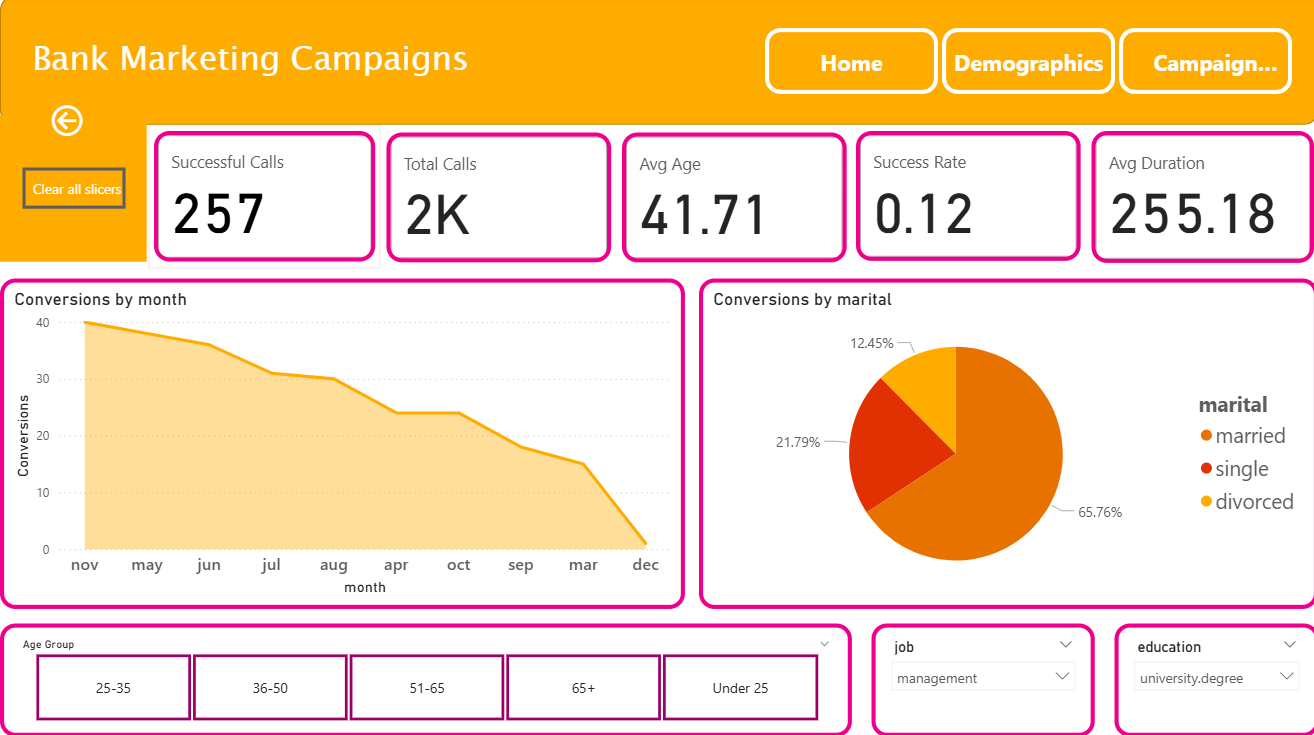

Layout of this report page (visuals, bound fields, positions):
{"tool":"powerbi","page":{"name":"Executive summary","canvas":[1280,720],"ordinal":0},"visuals":[{"type":"shape","box":[0,0,1280,126],"z":0},{"type":"cardVisual","fields":{"Data":["bank-additional-full.Avg Age"]},"box":[598,128,228,136],"z":1000},{"type":"cardVisual","fields":{"Data":["bank-additional-full.Total Calls"]},"box":[370,128,228,136],"z":2000},{"type":"cardVisual","fields":{"Data":["bank-additional-full.Successful Calls"]},"box":[144.4,126.7,225.6,137.8],"z":3000},{"type":"cardVisual","fields":{"Data":["bank-additional-full.Success Rate"]},"box":[826,126,228,136],"z":4000},{"type":"cardVisual","fields":{"Data":["bank-additional-full.Avg Duration"]},"box":[1054,126,226,138],"z":5000},{"type":"textbox","box":[26,32,472,78],"z":6000},{"type":"actionButton","title":"Go to Demographics","box":[742,32,168,64],"z":7000},{"type":"actionButton","title":"Go to Demographics","box":[914,32,168,64],"z":8000},{"type":"actionButton","title":"Go to Demographics","box":[1086,32,168,64],"z":9000},{"type":"shape","box":[0,115.7,142.3,142.3],"z":10000},{"type":"lineChart","fields":{"Category":["bank-additional-full.month"],"Y":["bank-additional-full.Conversions"]},"box":[0,275.3,664.8,320.7],"z":11000},{"type":"actionButton","box":[21.4,167.1,100,40],"z":12000},{"type":"pieChart","fields":{"Category":["bank-additional-full.marital"],"Y":["bank-additional-full.Conversions"]},"box":[678.8,275.3,600.6,320.7],"z":13000},{"type":"slicer","fields":{"Values":["bank-additional-full.Age Group"]},"box":[0,610,826.7,110],"z":14000},{"type":"slicer","fields":{"Values":["bank-additional-full.job"]},"box":[845.8,610,216.7,110],"z":15000},{"type":"slicer","fields":{"Values":["bank-additional-full.education"]},"box":[1081.7,610,198.3,110],"z":16000},{"type":"actionButton","box":[45.7,101.4,51.4,40],"z":17000}]}

Visuals, with their boxes in screenshot pixels (x1, y1, x2, y2), scaled from the page's 1280x720 canvas onto the 1314x735 screenshot:
shape: region(0, 0, 1313, 129)
cardVisual - bank-additional-full.Avg Age: region(614, 131, 848, 270)
cardVisual - bank-additional-full.Total Calls: region(380, 131, 614, 270)
cardVisual - bank-additional-full.Successful Calls: region(148, 129, 380, 270)
cardVisual - bank-additional-full.Success Rate: region(848, 129, 1082, 267)
cardVisual - bank-additional-full.Avg Duration: region(1082, 129, 1313, 270)
textbox: region(27, 33, 511, 112)
"Go to Demographics" actionButton: region(762, 33, 934, 98)
"Go to Demographics" actionButton: region(938, 33, 1111, 98)
"Go to Demographics" actionButton: region(1115, 33, 1287, 98)
shape: region(0, 118, 146, 263)
lineChart - bank-additional-full.month x bank-additional-full.Conversions: region(0, 281, 682, 608)
actionButton: region(22, 171, 125, 211)
pieChart - bank-additional-full.marital x bank-additional-full.Conversions: region(697, 281, 1313, 608)
slicer - bank-additional-full.Age Group: region(0, 623, 849, 734)
slicer - bank-additional-full.job: region(868, 623, 1091, 734)
slicer - bank-additional-full.education: region(1110, 623, 1313, 734)
actionButton: region(47, 104, 100, 144)
